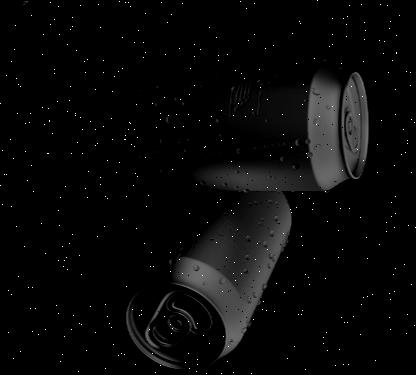Can: (114, 59, 369, 191), (123, 191, 292, 370)
